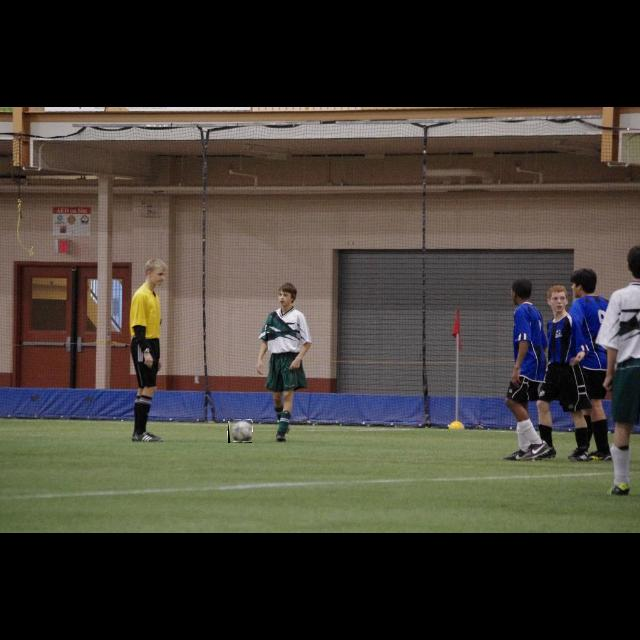Football: (228, 419, 252, 443)
